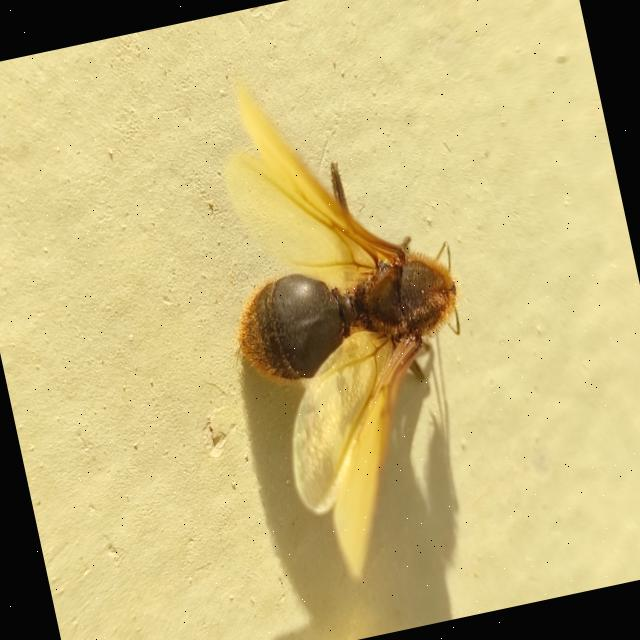Dead-Male-Alate: (187, 45, 513, 592)
